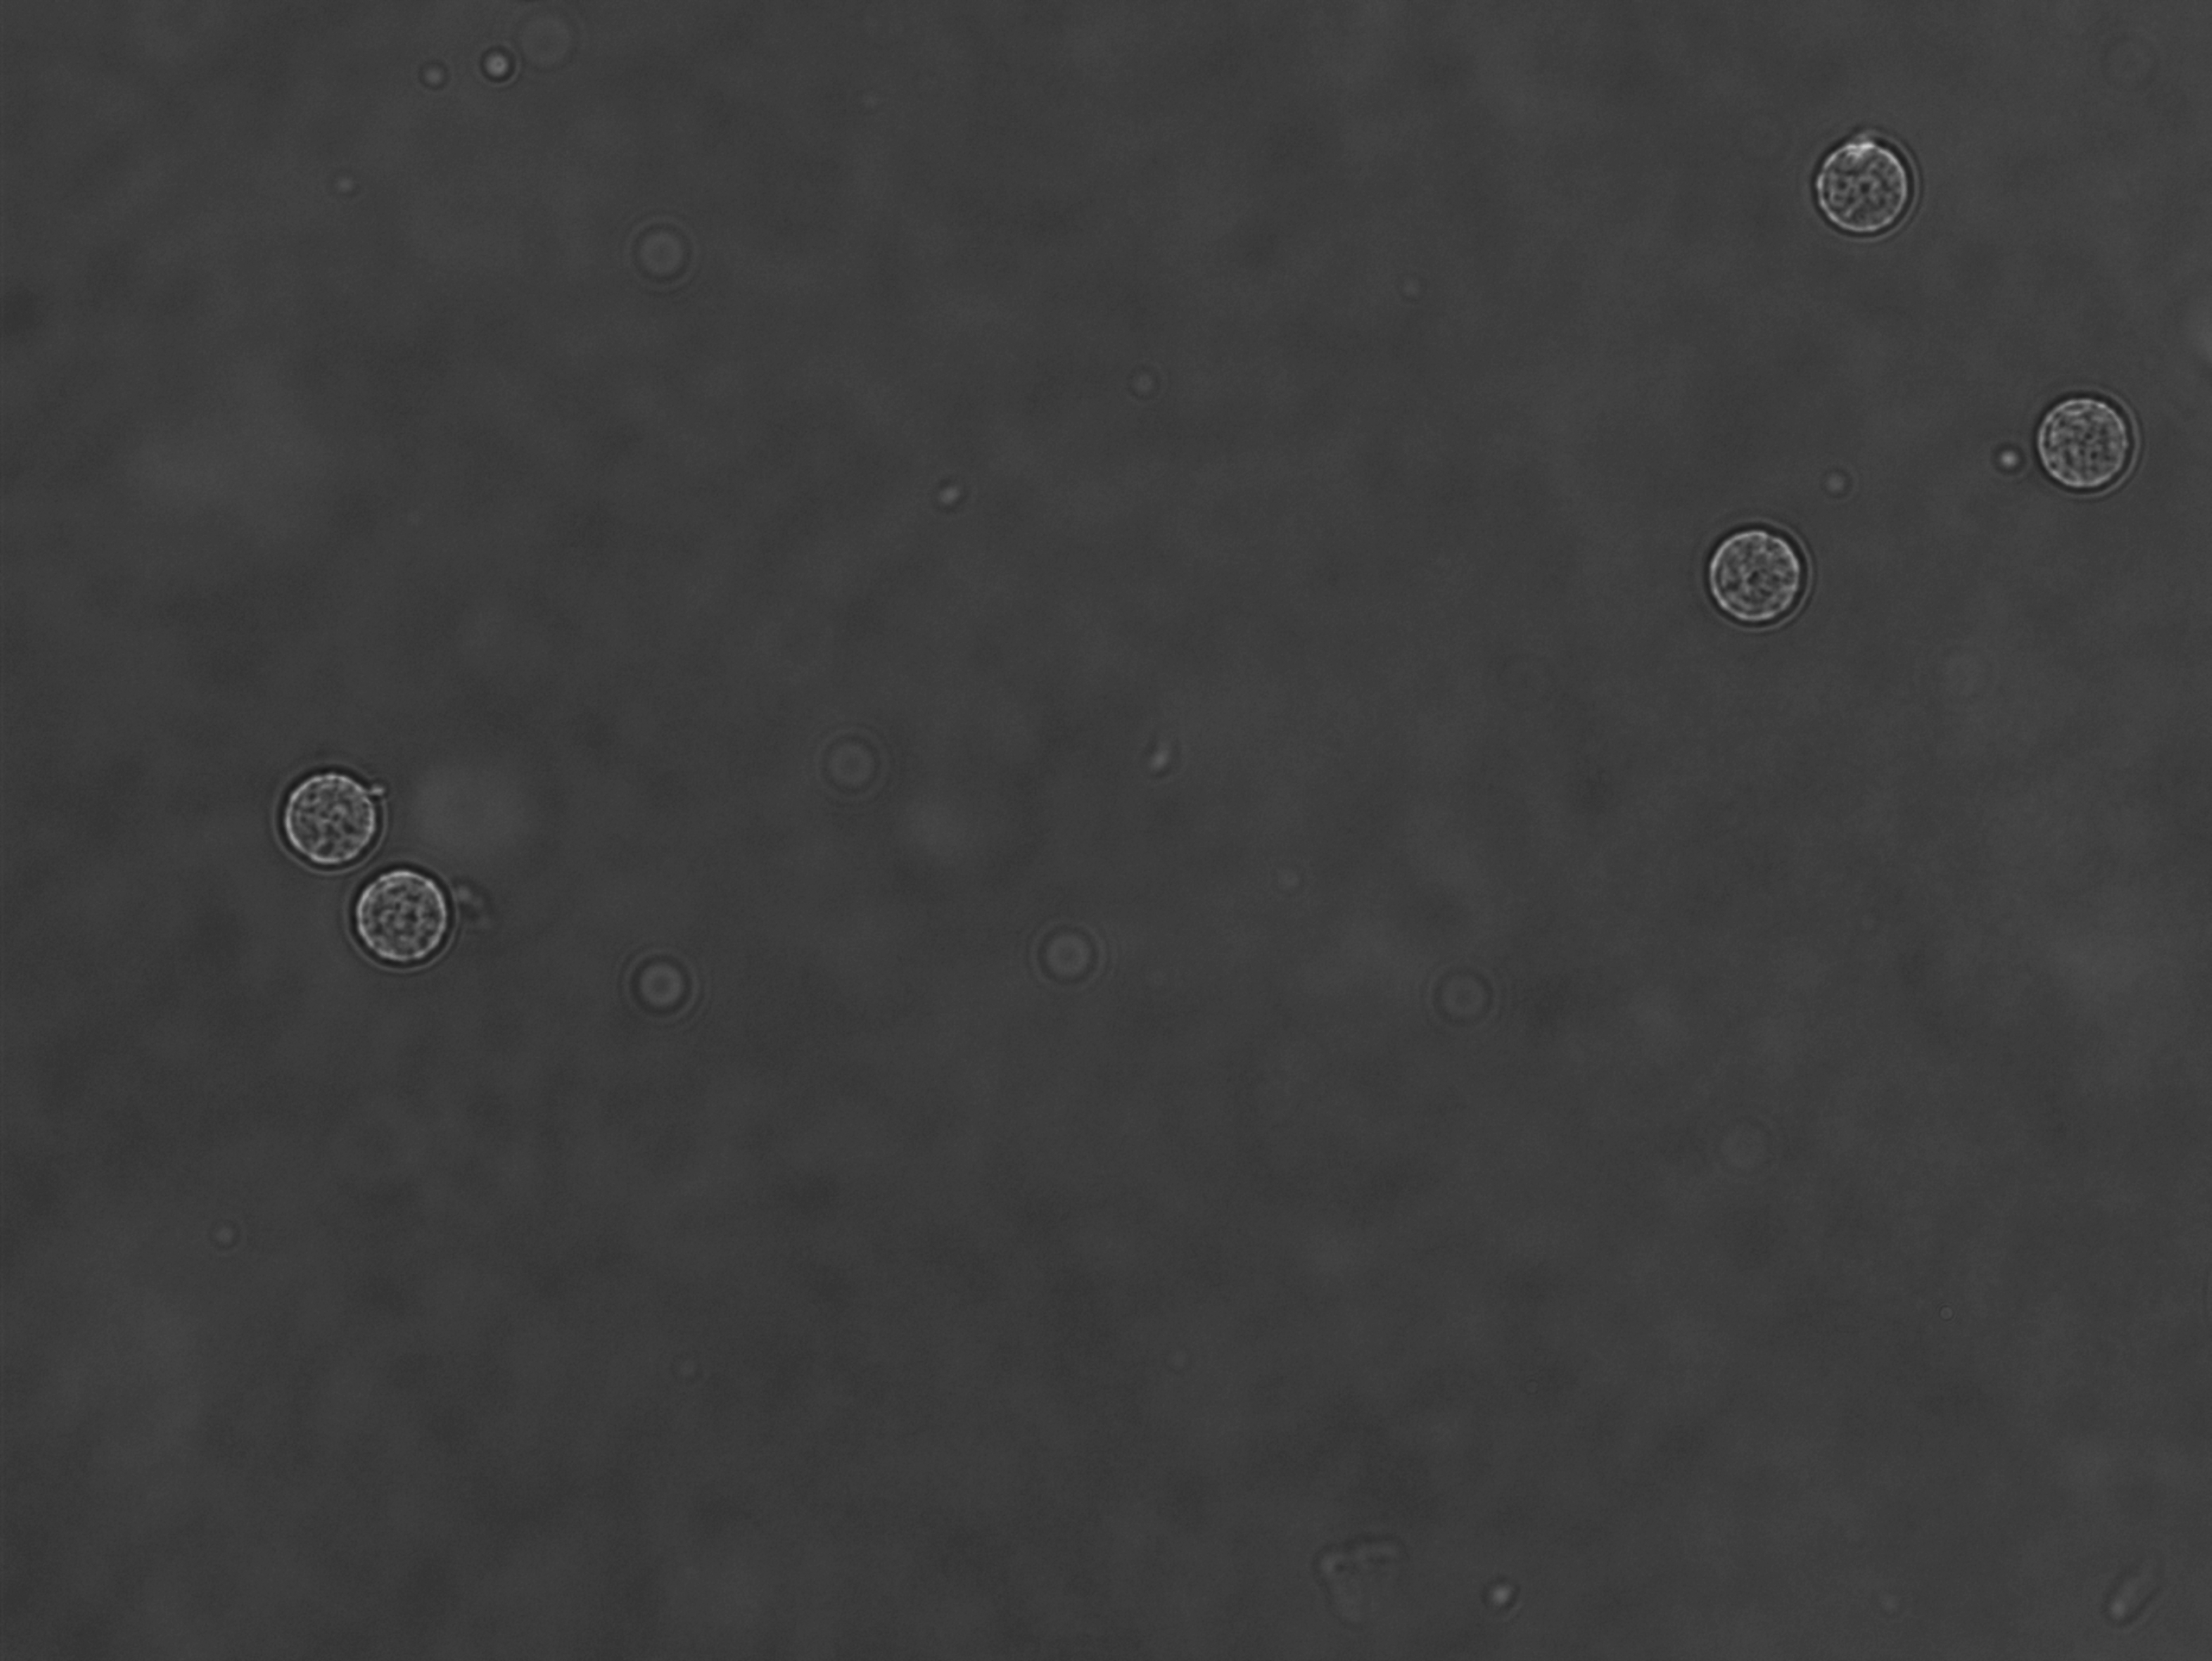depth:0: (1792, 122, 1936, 258), (1682, 504, 1814, 653), (2029, 377, 2156, 518), (344, 846, 473, 977), (258, 755, 398, 872)
